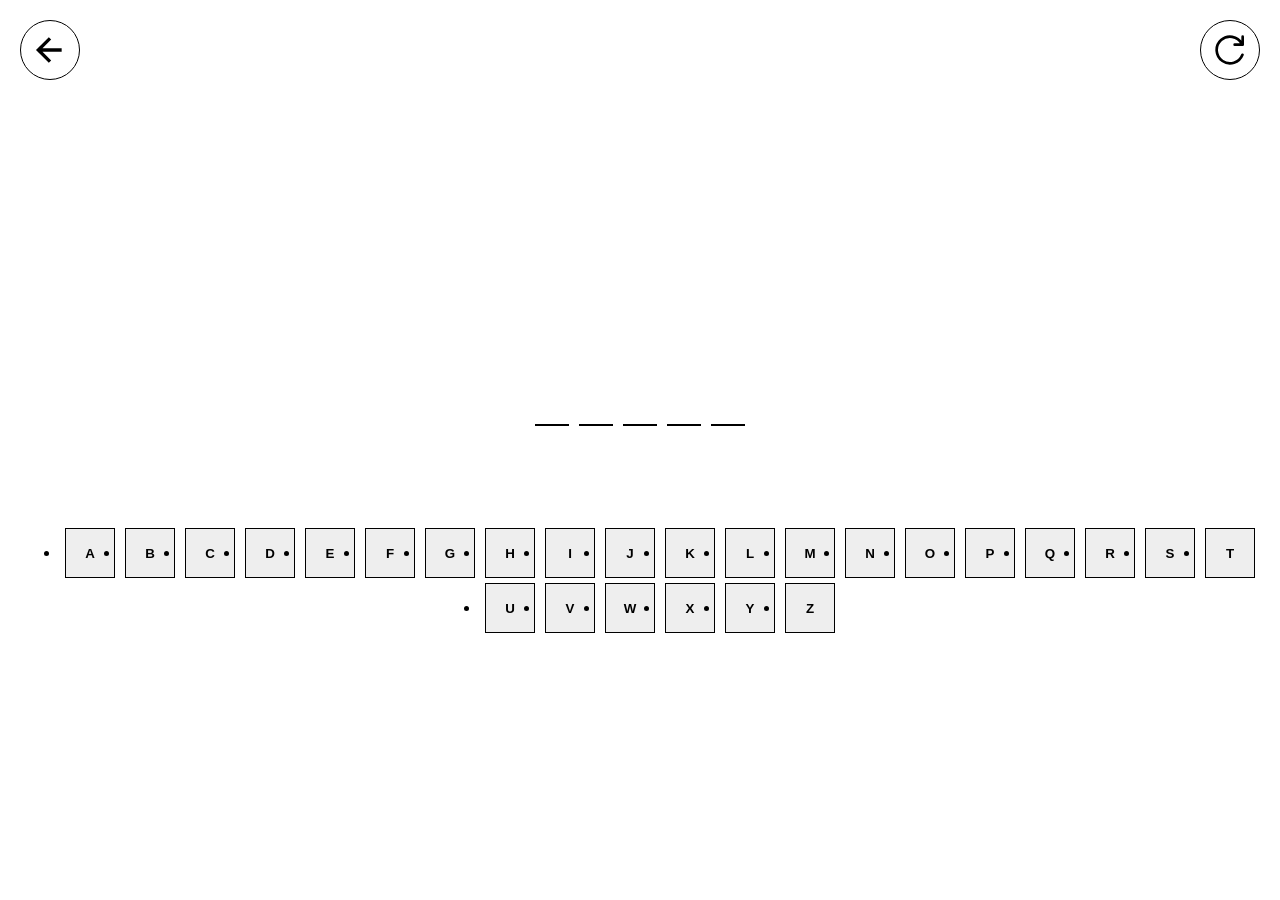
Scenario: Game Page › shows a victory text when you answer correctly within a limited number of attempts
Click the button "H".
click(510, 553)  # box left=485, top=528, right=535, bottom=578
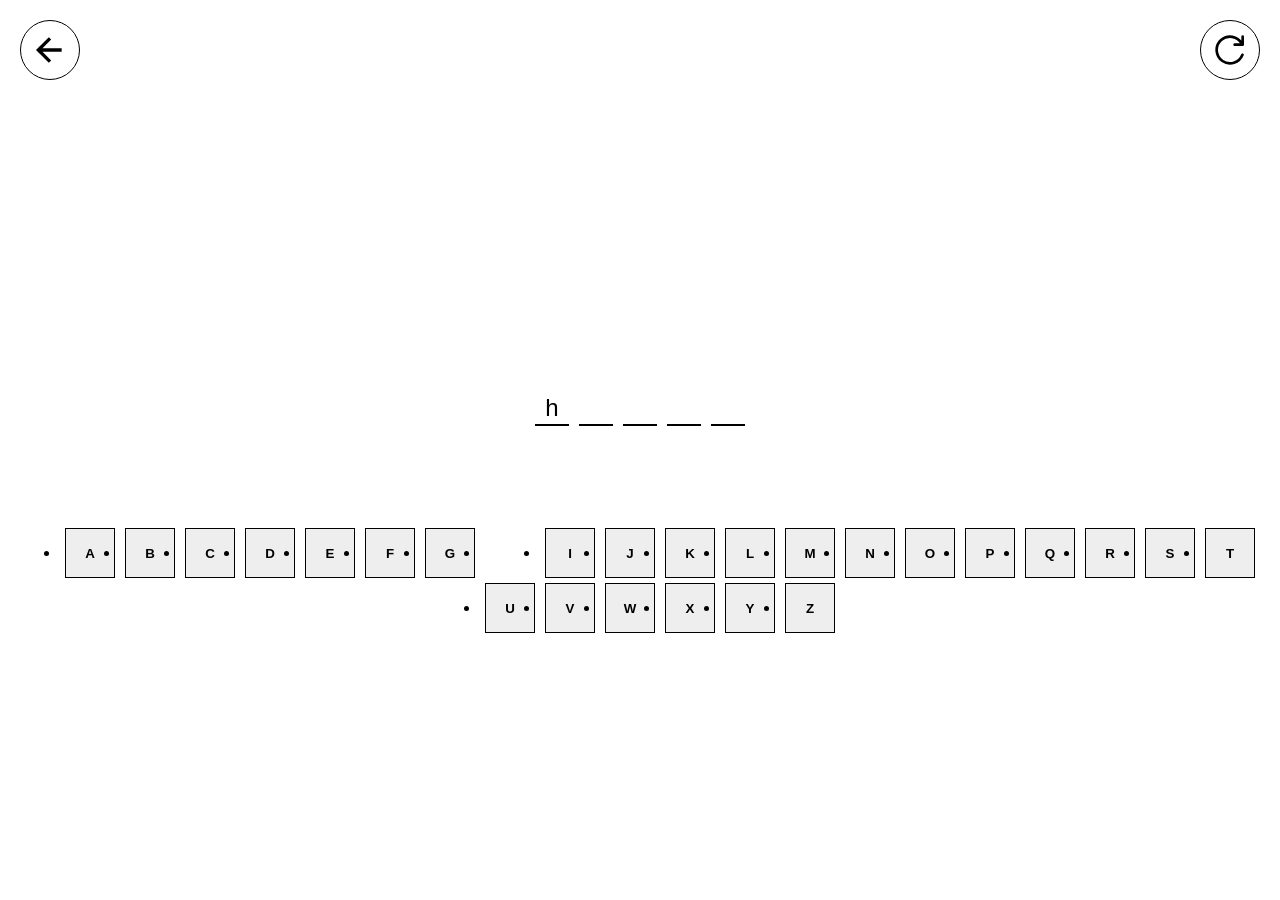
Click the button "E".
click(330, 553)  # box left=305, top=528, right=355, bottom=578
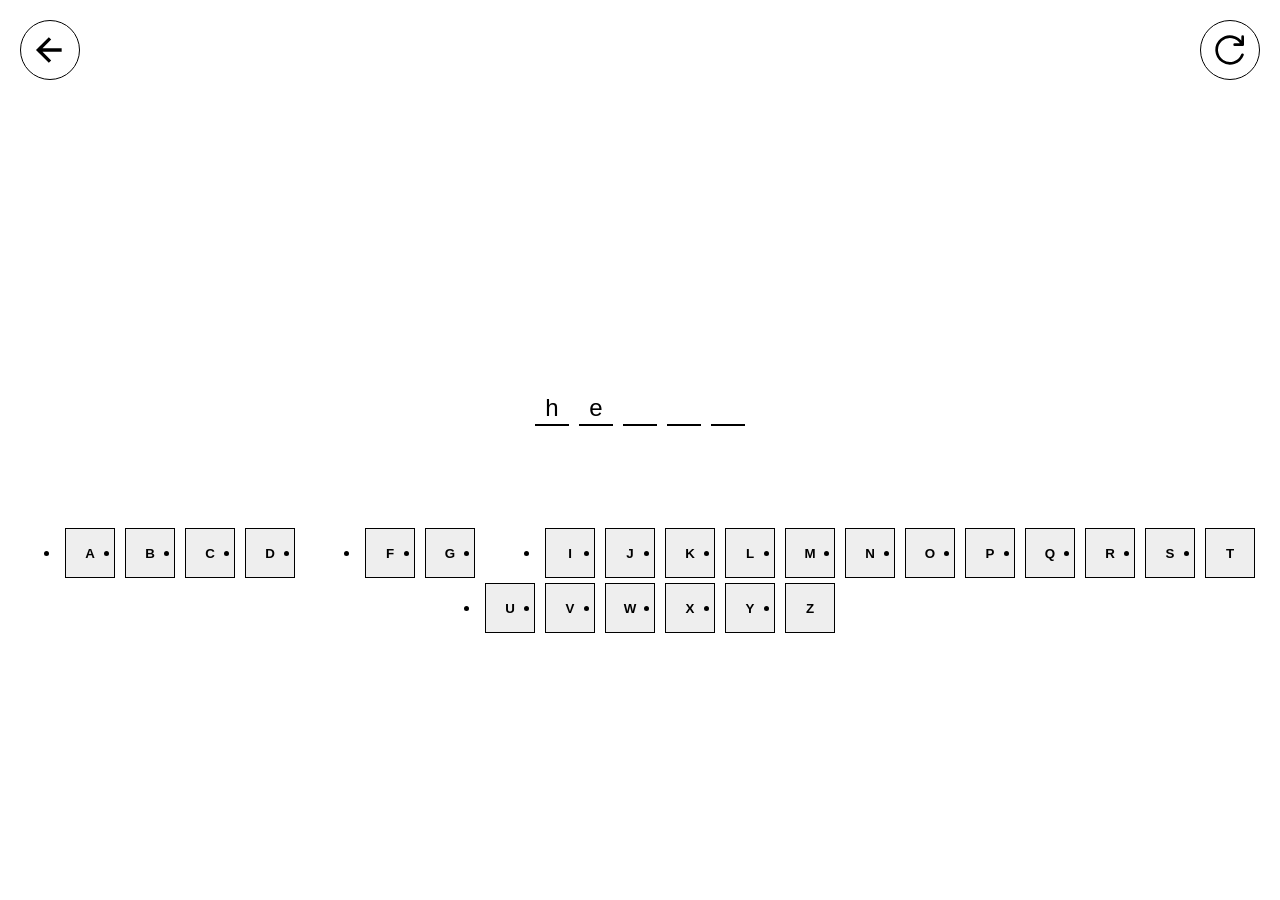
Click the button "L".
click(750, 553)  # box left=725, top=528, right=775, bottom=578
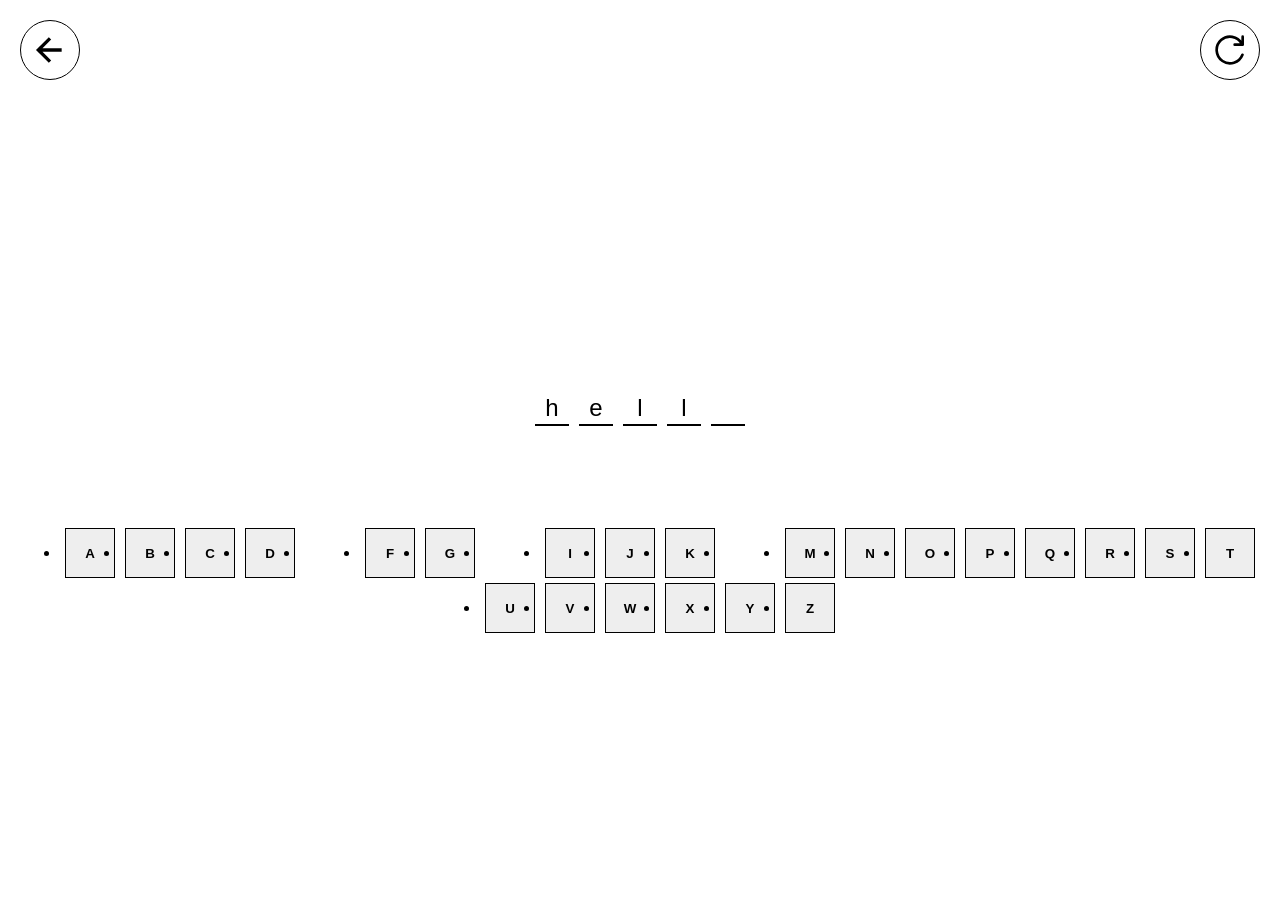
Click the button "A".
click(90, 553)  # box left=65, top=528, right=115, bottom=578
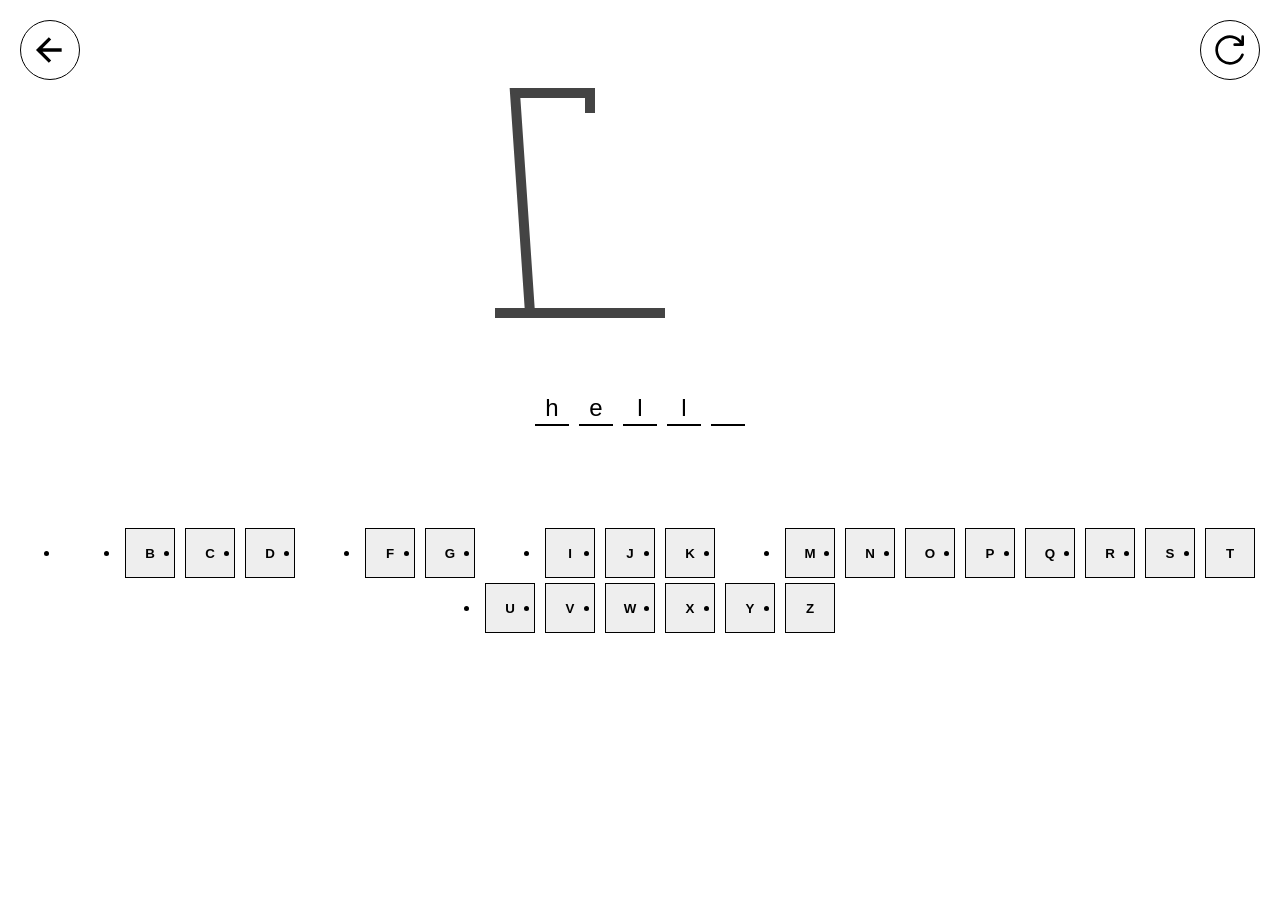
Click the button "O".
click(930, 553)  # box left=905, top=528, right=955, bottom=578
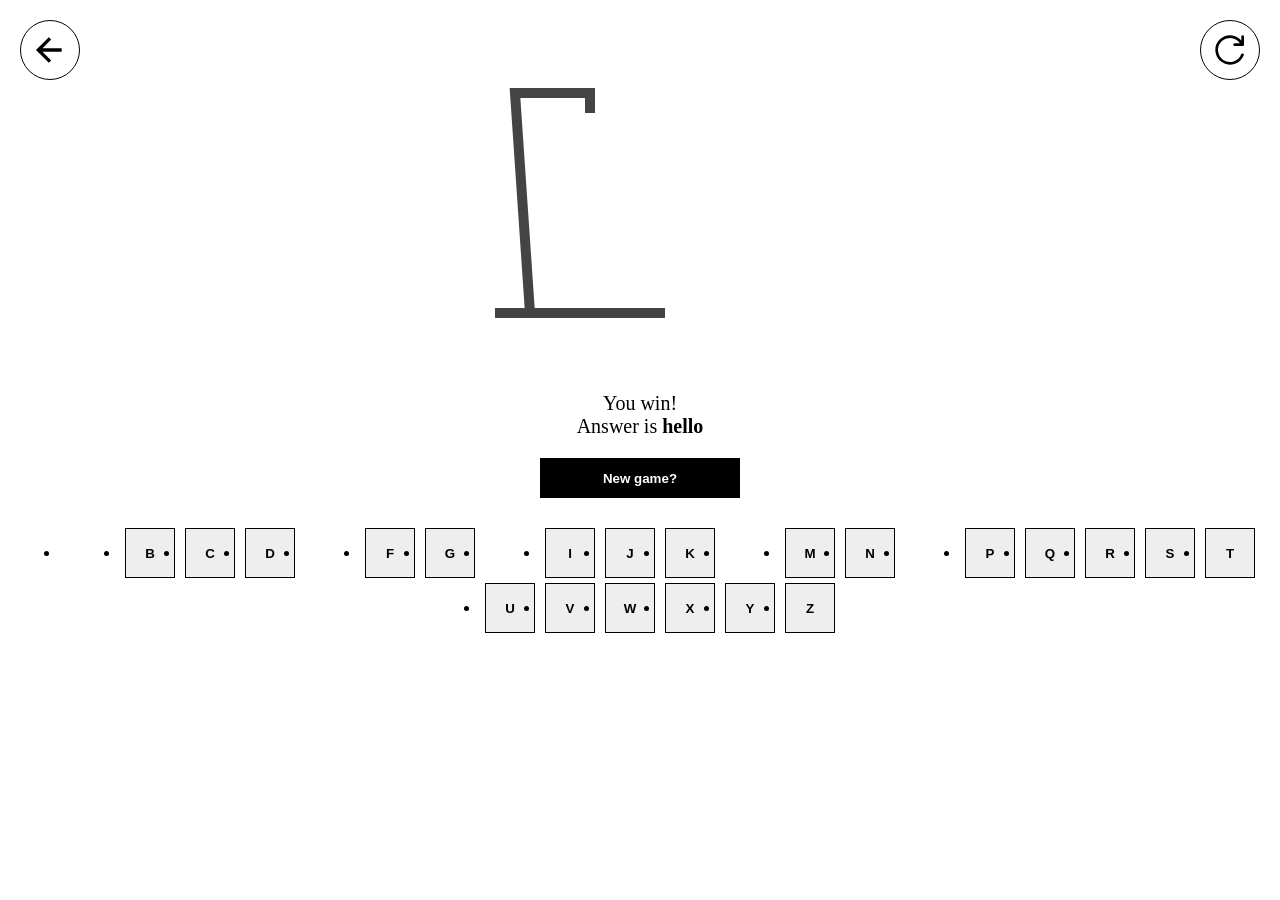
Expected: the text "You win!" is shown, left=603, top=392, right=677, bottom=415
